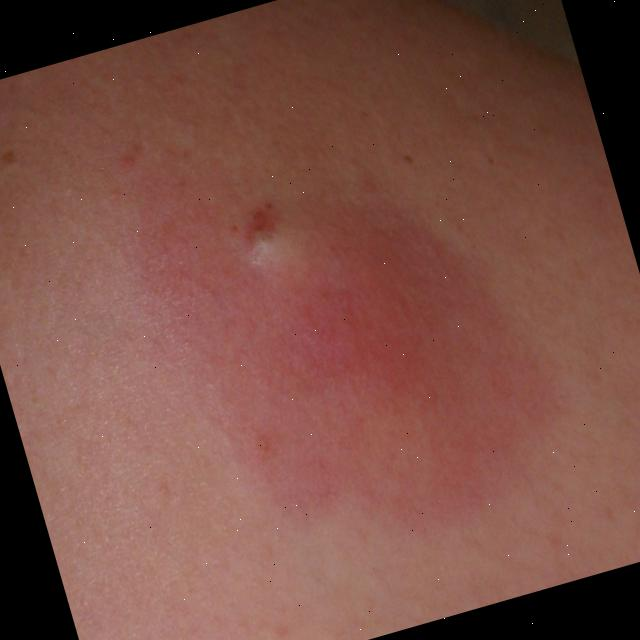kene: (93, 45, 587, 587)
